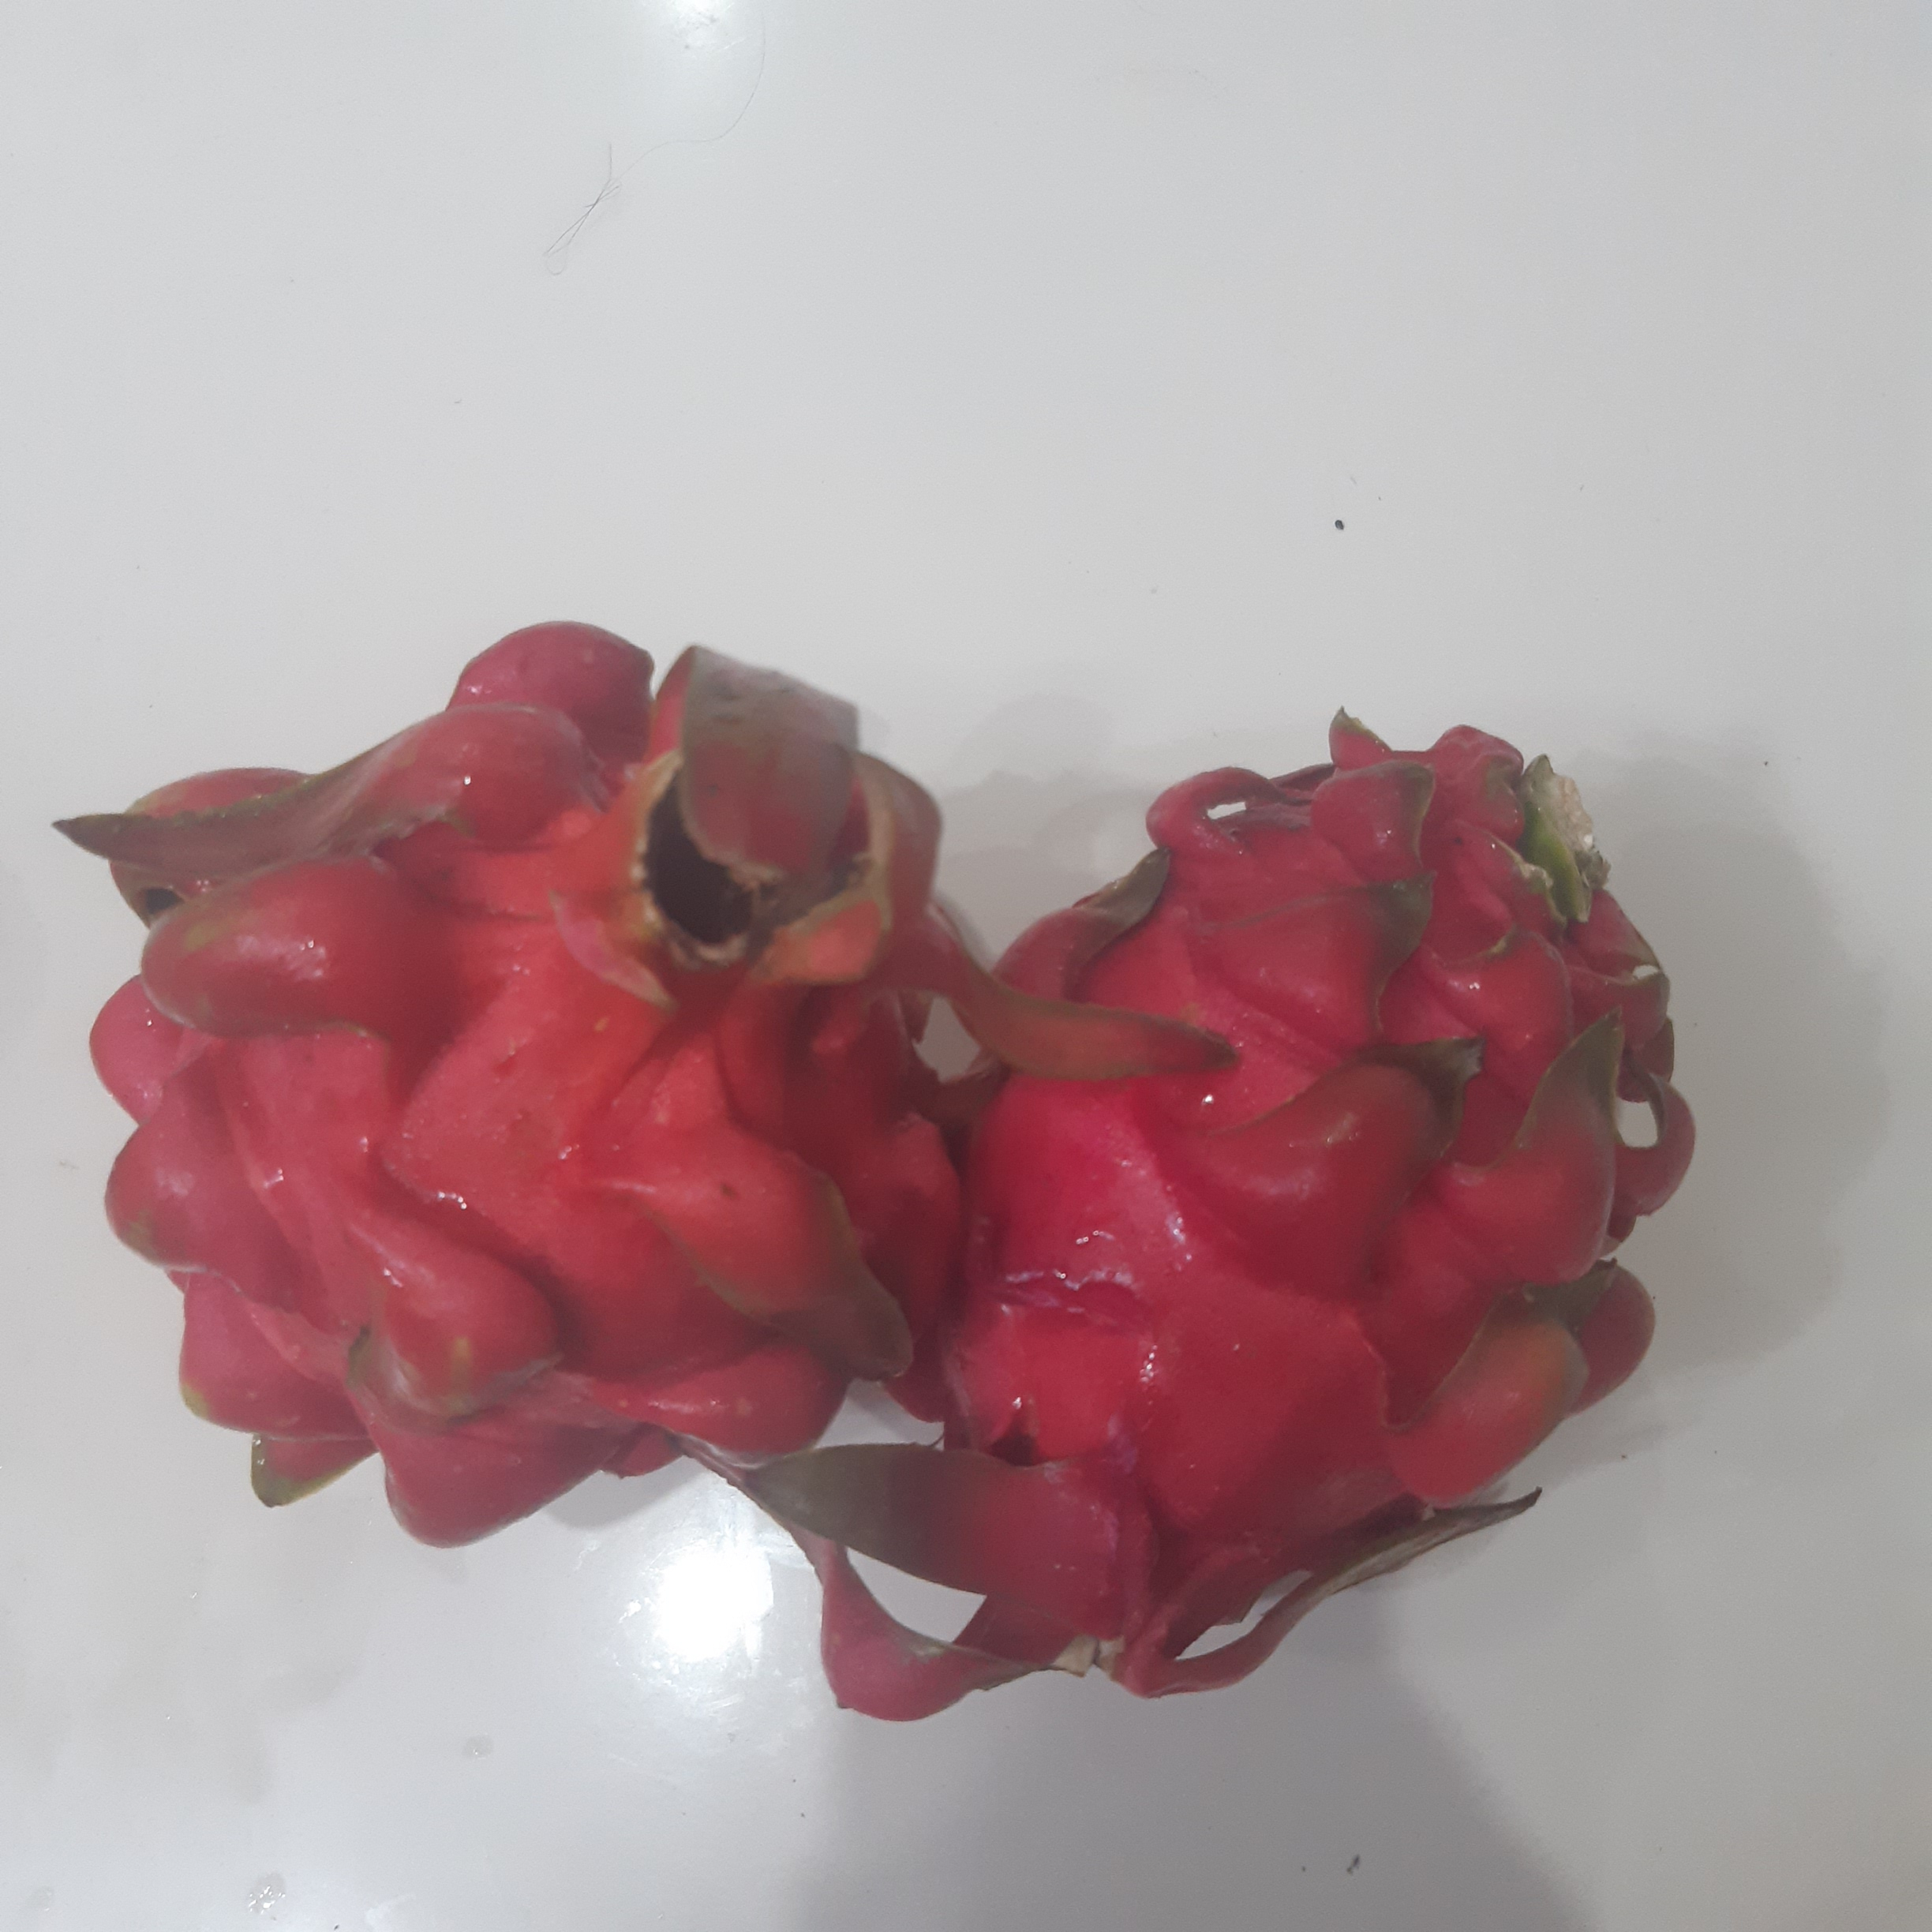Thanh long: (902, 713, 1690, 1668), (104, 672, 971, 1525)
